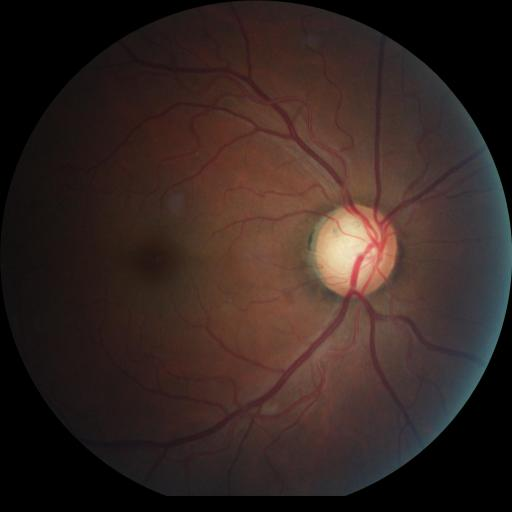Optic Cup: (325, 217, 384, 273)
Optic Disc: (316, 204, 397, 297)
